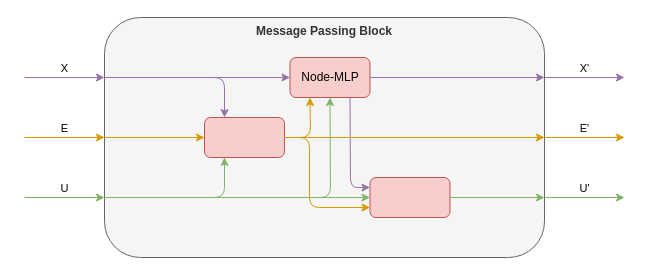
This 650x275 diagram has some shape labels left out. Here are the shapes that lost their labels. From the top down, the centre of each, then its label:
pixel 244 137: Edge-MLP
pixel 409 197: Globale-MLP
